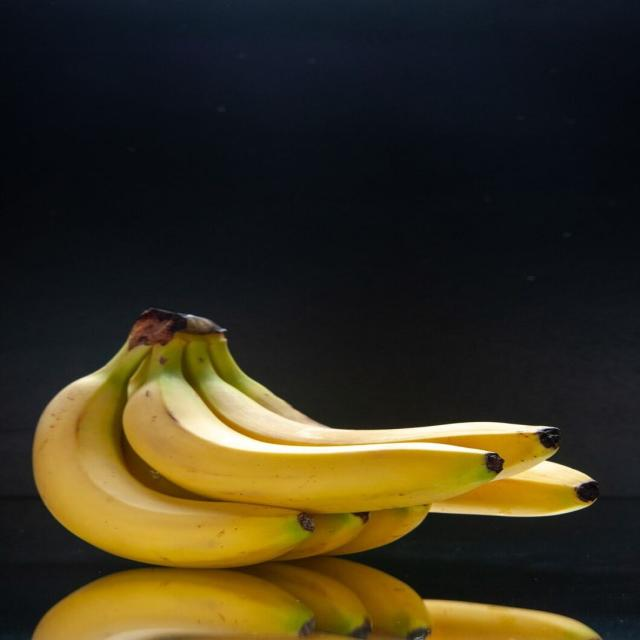unpeal banana: (34, 309, 597, 567), (123, 333, 502, 513), (33, 341, 312, 566), (190, 334, 559, 477), (34, 568, 313, 639), (294, 556, 431, 639), (242, 563, 371, 638), (432, 461, 598, 516), (424, 599, 601, 639), (327, 505, 430, 555), (274, 512, 369, 560)
